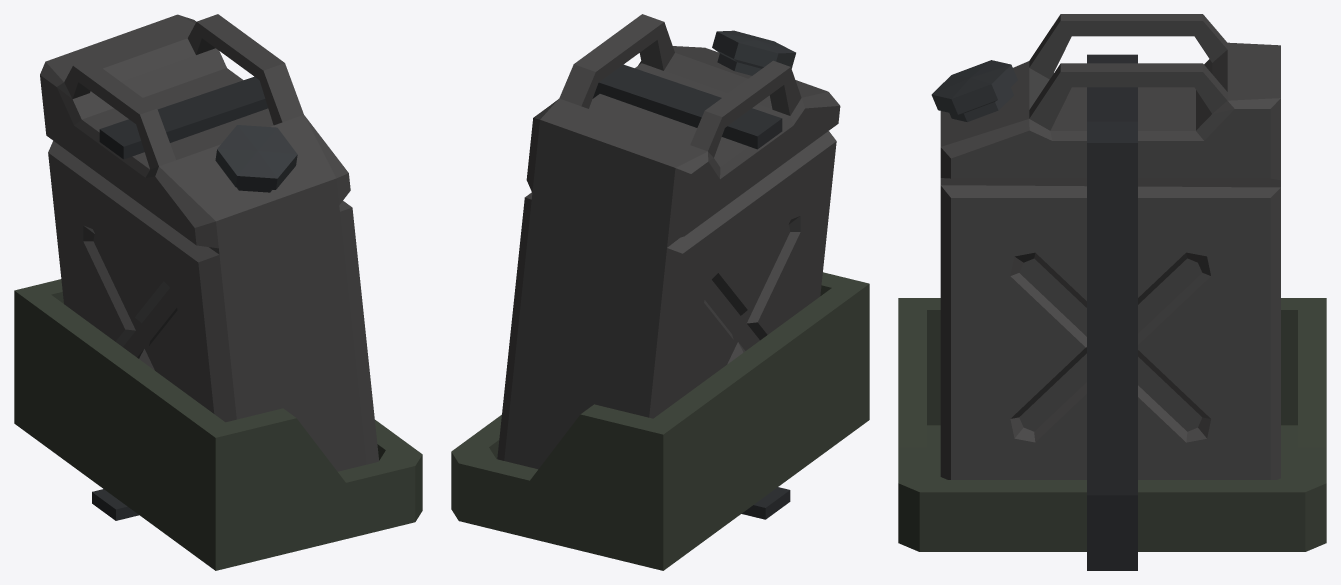
File: SM_Veh_Attach_Fuel_01.fbx
The picture shows the model from 3 angles, left to right: view 1: azimuth 30°, elevation 25°; view 2: azimuth 150°, elevation 25°; view 3: azimuth 270°, elevation 25°; orthographic projection. The views are drawn at different scales.
Parts seen in each view (by area): view 1: SM_Veh_Attach_Fuel_01; view 2: SM_Veh_Attach_Fuel_01; view 3: SM_Veh_Attach_Fuel_01.
Part boxes in pixels (x1,y1,x2,y2): SM_Veh_Attach_Fuel_01: (14, 14, 422, 570); SM_Veh_Attach_Fuel_01: (451, 14, 869, 570); SM_Veh_Attach_Fuel_01: (898, 14, 1326, 570).
Bounding box in the file's own units: 33.92 × 58.05 × 49.41.
